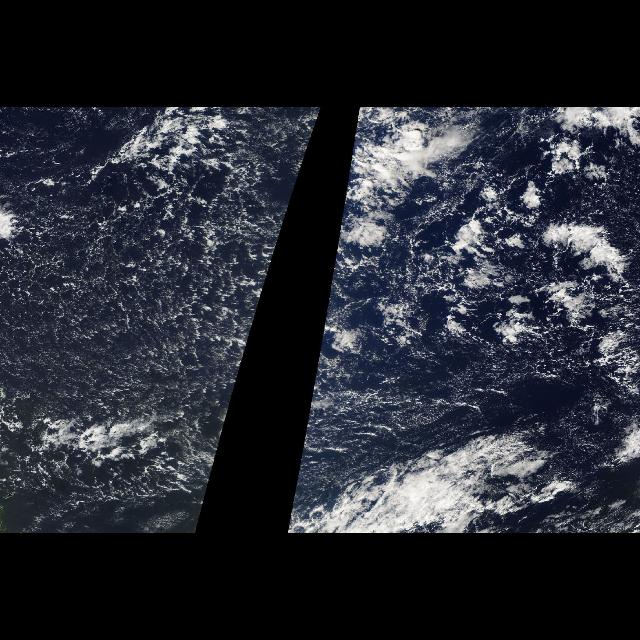Gravel: (307, 118, 627, 412), (3, 118, 319, 412)
